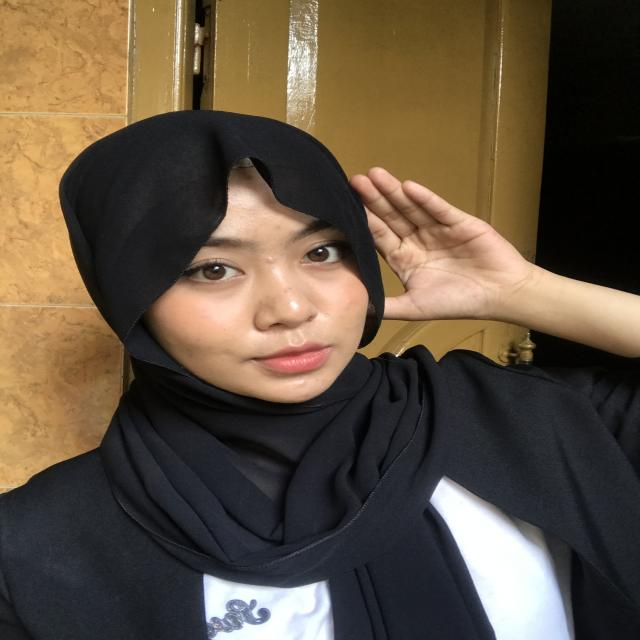mendengar: (336, 166, 530, 336)
